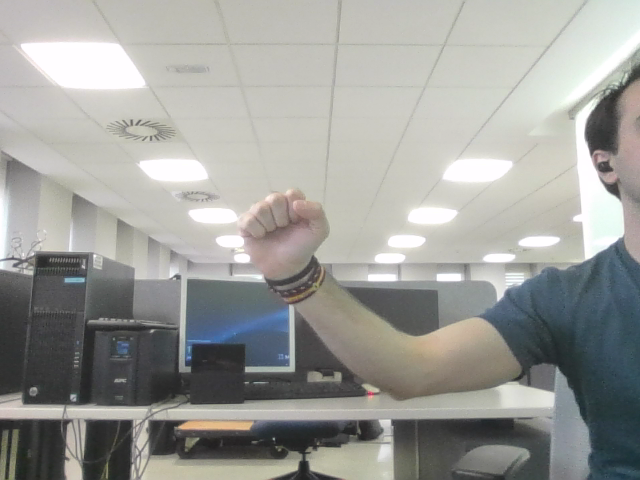Puño: (248, 199, 313, 253)
